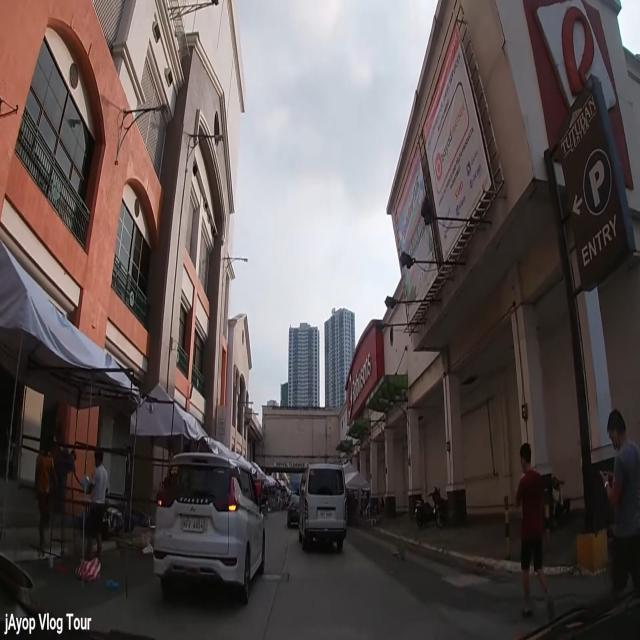car: (152, 452, 266, 610), (297, 462, 347, 552), (287, 491, 301, 527)
motorcycle: (414, 486, 449, 532)
